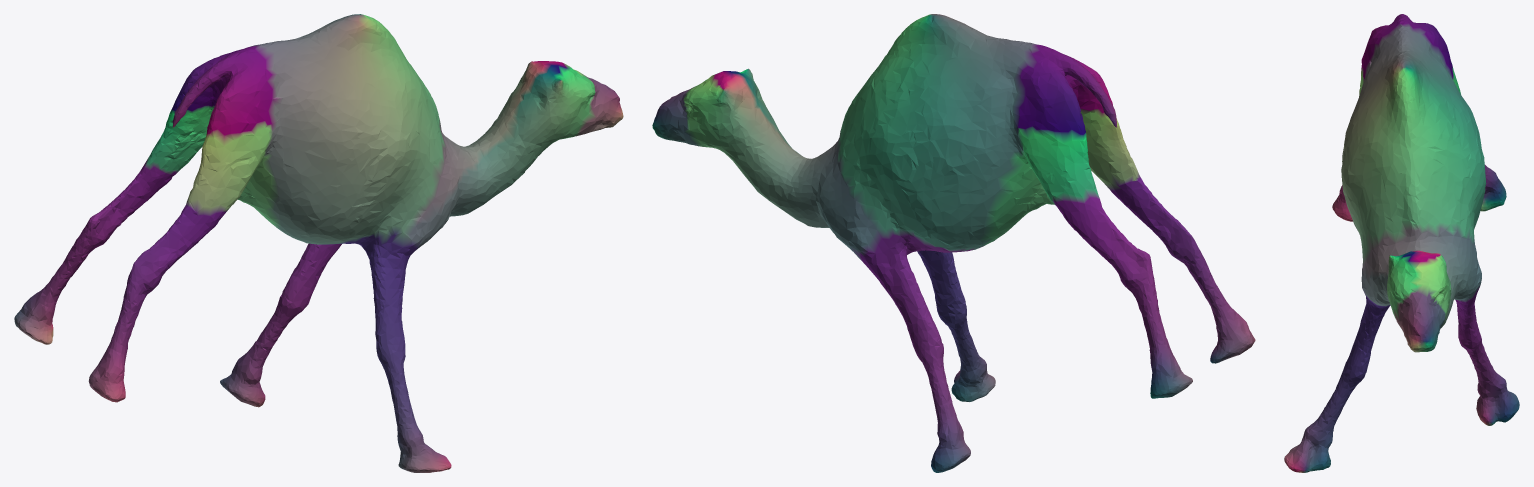
The model's file is camel-18.off.obj.
The picture shows the model from 3 angles, left to right: view 1: azimuth 30°, elevation 25°; view 2: azimuth 150°, elevation 25°; view 3: azimuth 270°, elevation 25°; orthographic projection. The views are drawn at different scales.
Bounding box in the file's own units: 1.68 × 1.2 × 0.6438.
